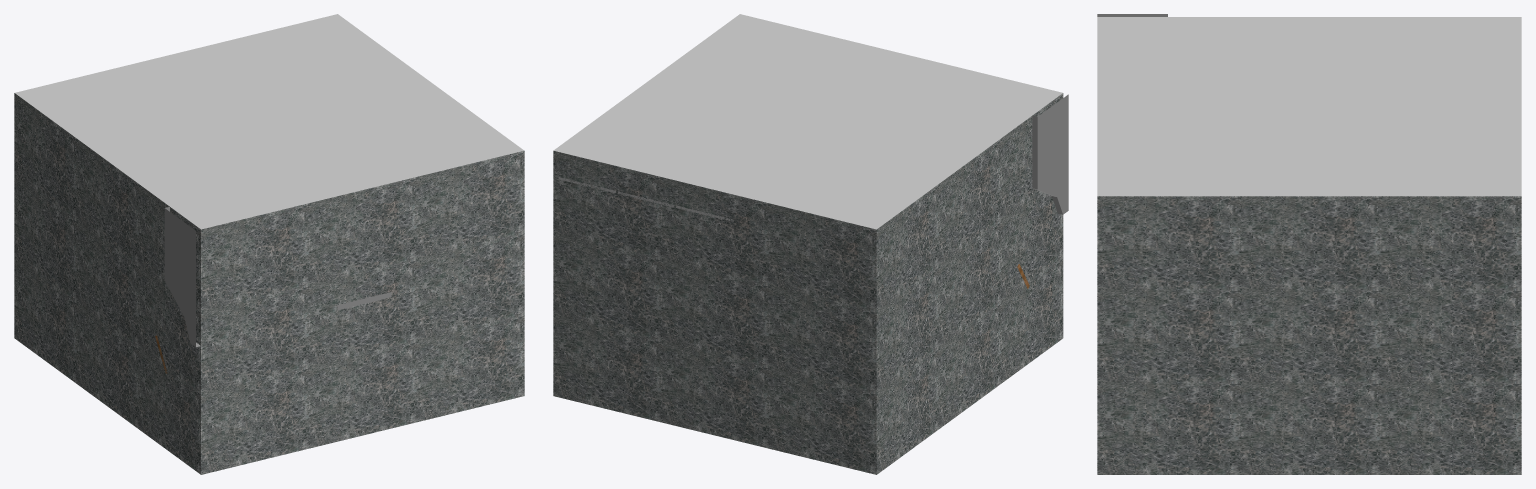
The model's file is Kitchen.fbx.
The picture shows the model from 3 angles, left to right: view 1: azimuth 30°, elevation 25°; view 2: azimuth 150°, elevation 25°; view 3: azimuth 270°, elevation 25°; orthographic projection. The views are drawn at different scales.
Visible parts, largest first — view 1: BackGround, Hoods; view 2: BackGround, Hoods; view 3: BackGround.
Part boxes in pixels (x1,y1,x2,y2): BackGround: (14,14,524,474); Hoods: (164,207,200,347); BackGround: (553,14,1063,474); Hoods: (1032,94,1068,214); BackGround: (1097,17,1521,474).
Size of the model in its own units: 1220 by 870 by 1200.
